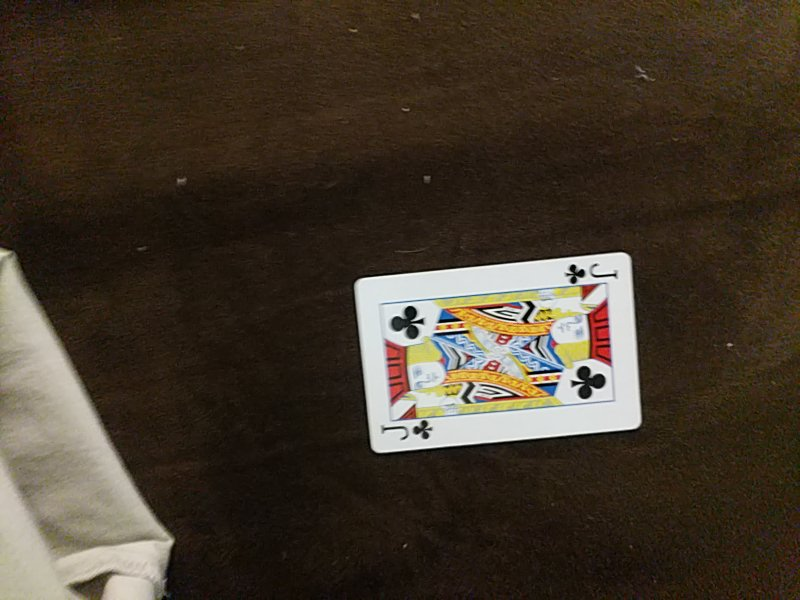Clubs: (355, 250, 648, 447)
